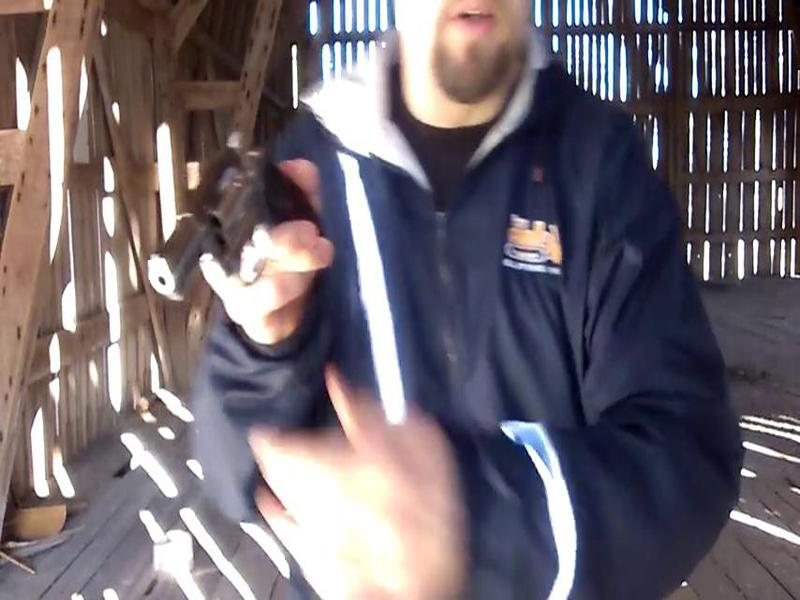Revolver: (128, 124, 343, 325)
